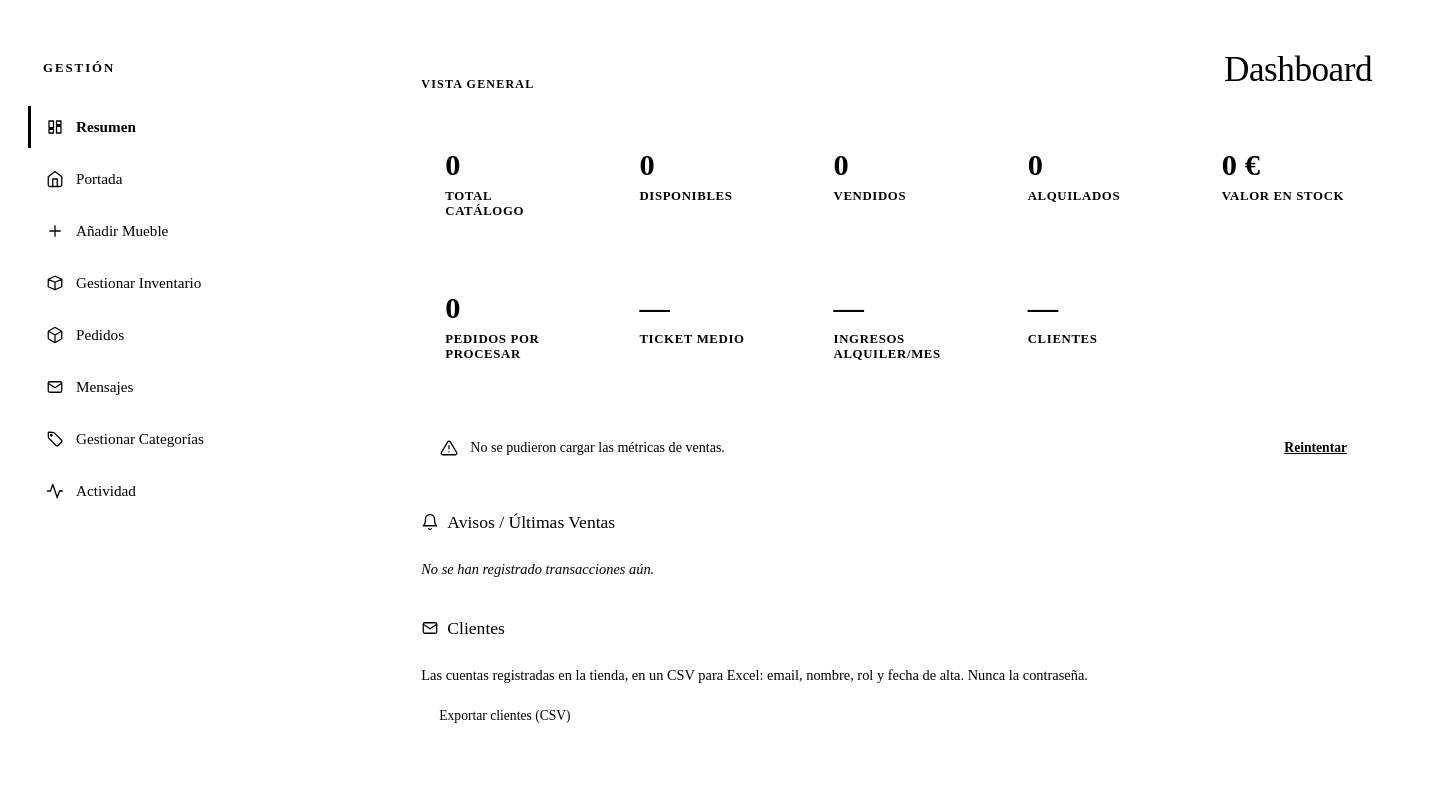
it: Pedidos — listado › sin ningún pedido, avisa de que todavía no hay pedidos
Click the button "Pedidos". click: (100, 334)
box: [28, 314, 341, 356]
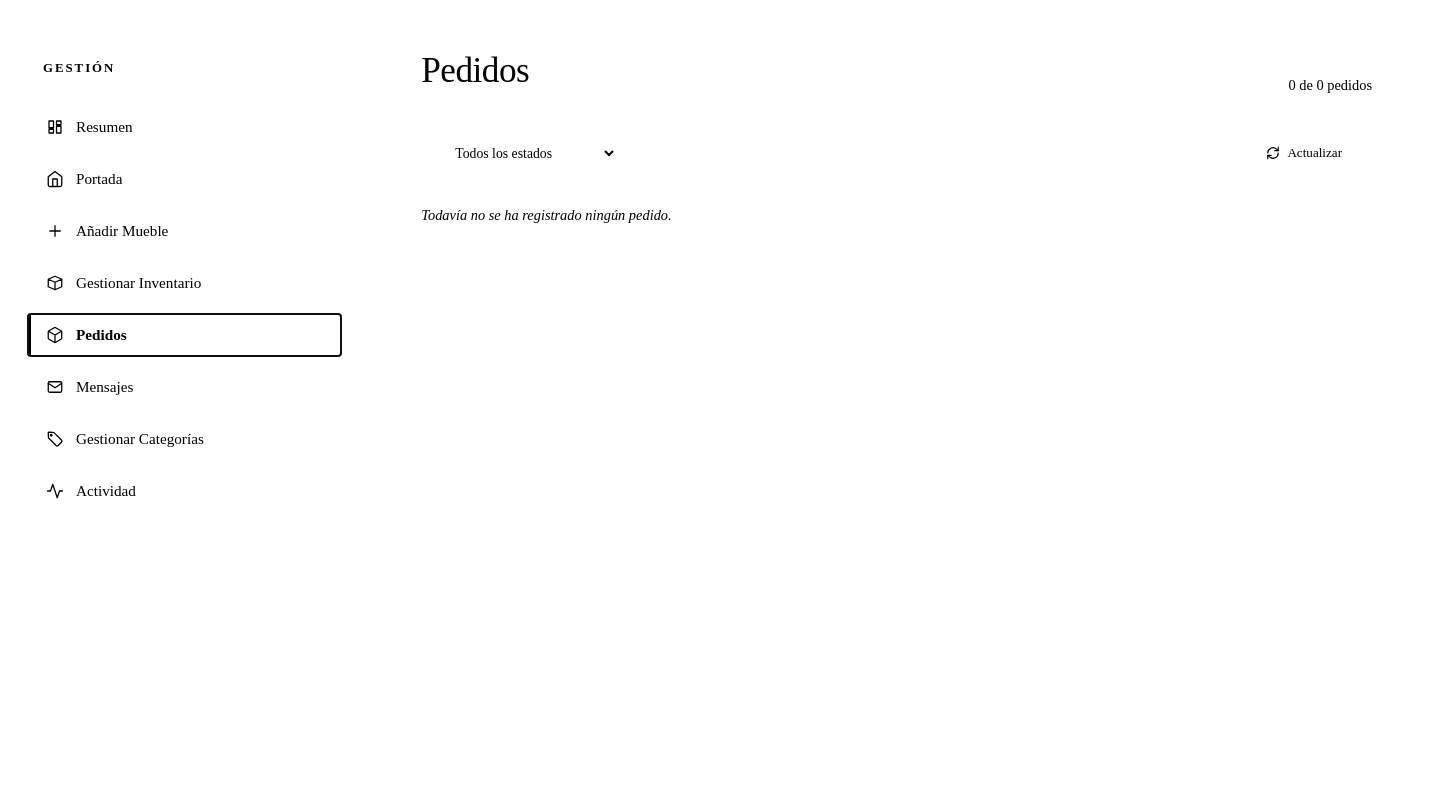
Result: the text "0 de 0 pedidos" is shown at [1288, 77, 1372, 94]
Result: the text "Todavía no se ha registrado ningún pedido." is shown at [421, 207, 672, 223]
